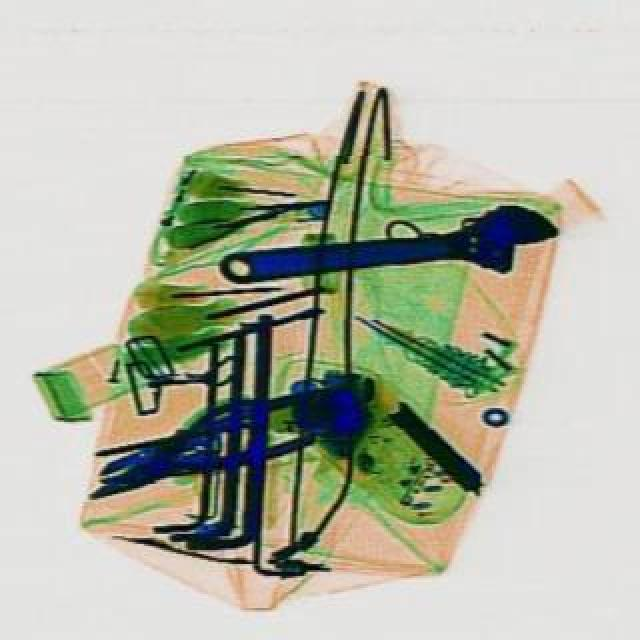scissors: (210, 196, 560, 300)
wrench: (70, 384, 288, 528), (86, 388, 322, 504)
